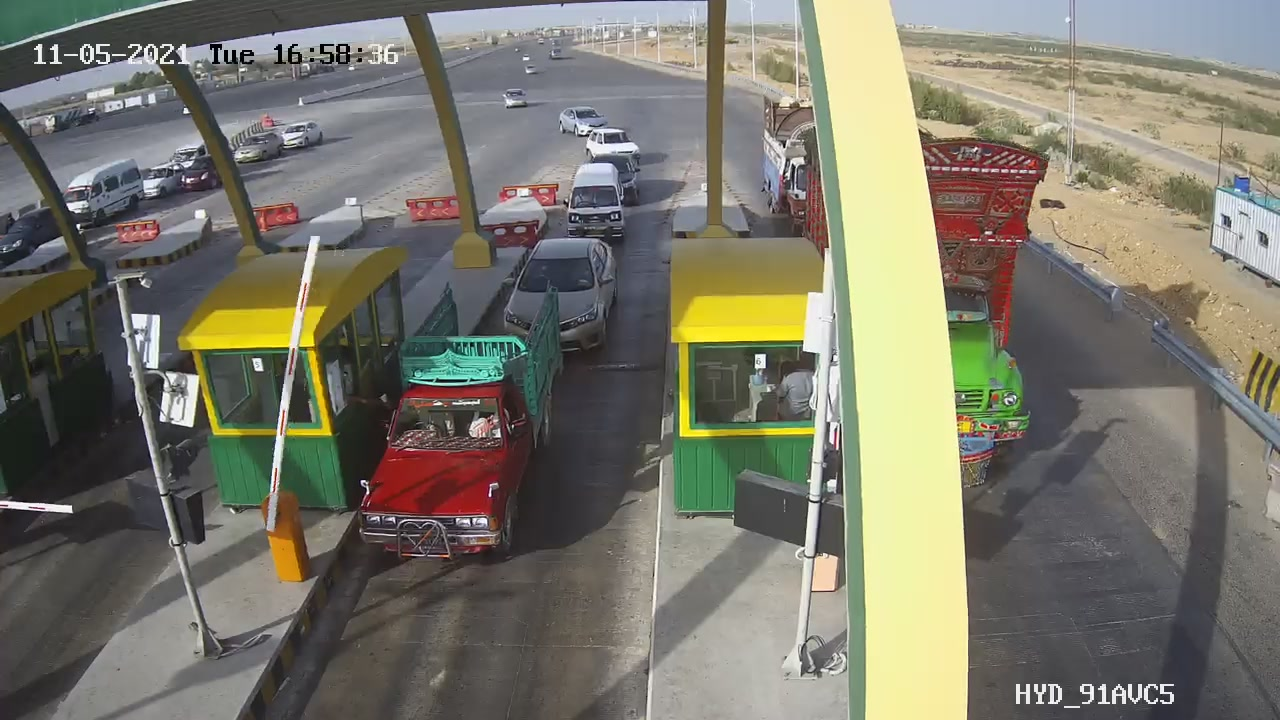F1: (356, 286, 564, 558), (481, 223, 631, 381), (545, 154, 646, 262)
